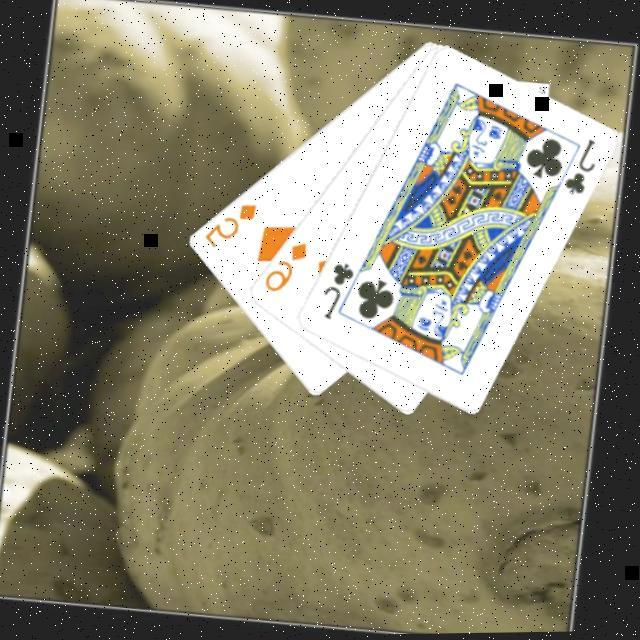5D: (202, 195, 261, 255)
9D: (261, 235, 313, 298)
JC: (560, 133, 602, 200), (318, 257, 359, 324)
